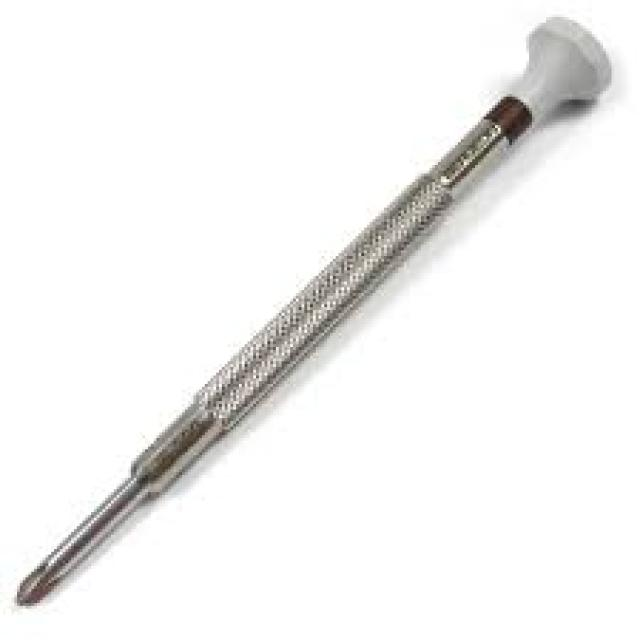Screwdriver: (17, 17, 612, 604)
